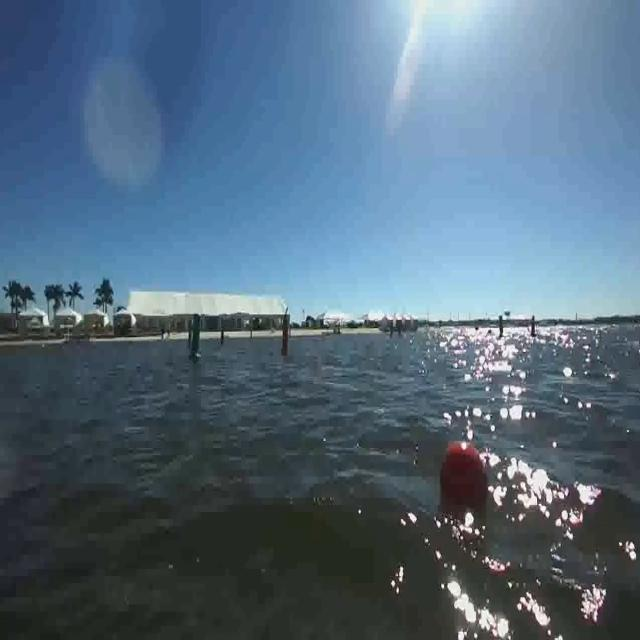green-column-buoy: (188, 319, 202, 361)
red-buoy: (438, 438, 488, 512)
red-column-buoy: (282, 314, 290, 353)
